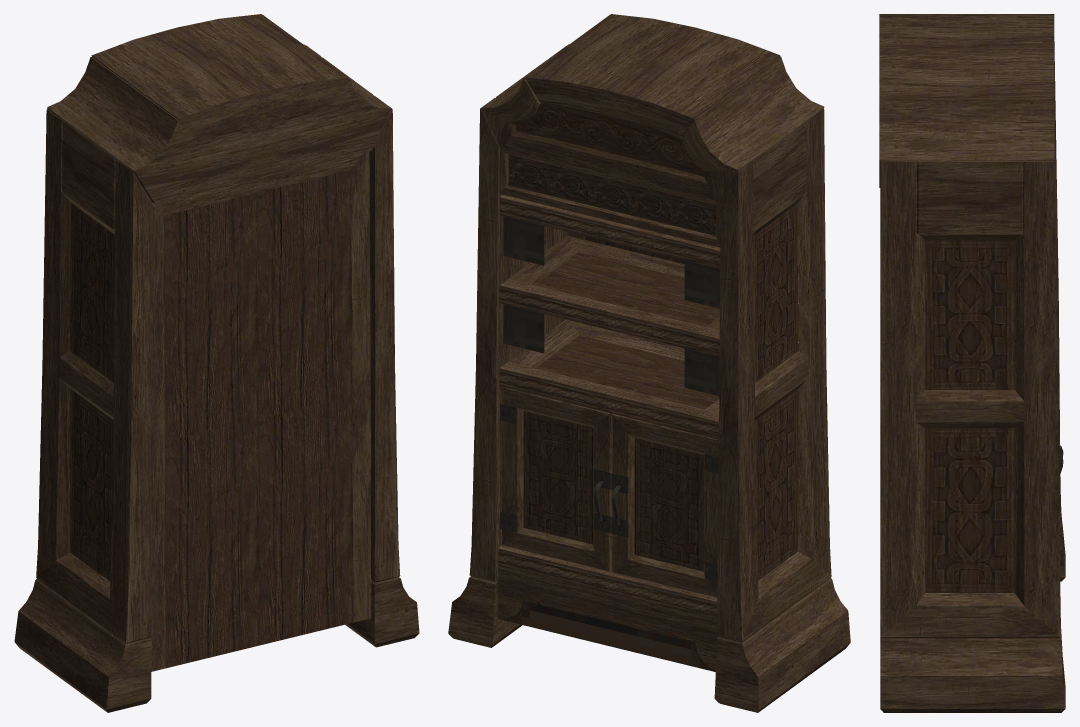
The model's file is eso_gu3_woodfurniture8-transformed.glb.
3 renders of one model, left to right at view 1: azimuth 30°, elevation 25°; view 2: azimuth 150°, elevation 25°; view 3: azimuth 270°, elevation 25°, orthographic.
Visible parts, largest first — view 1: default; view 2: default; view 3: default.
Part boxes in pixels (<box>): default: <box>14,14,419,712</box>; default: <box>448,14,850,712</box>; default: <box>879,14,1065,712</box>.
Size of the model in its own units: 1.93 by 3.46 by 0.9913.
Materials: 1 (1 with a texture image).
